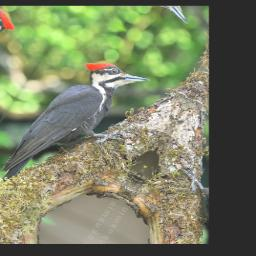Woodpecker: (0, 41, 161, 217)
